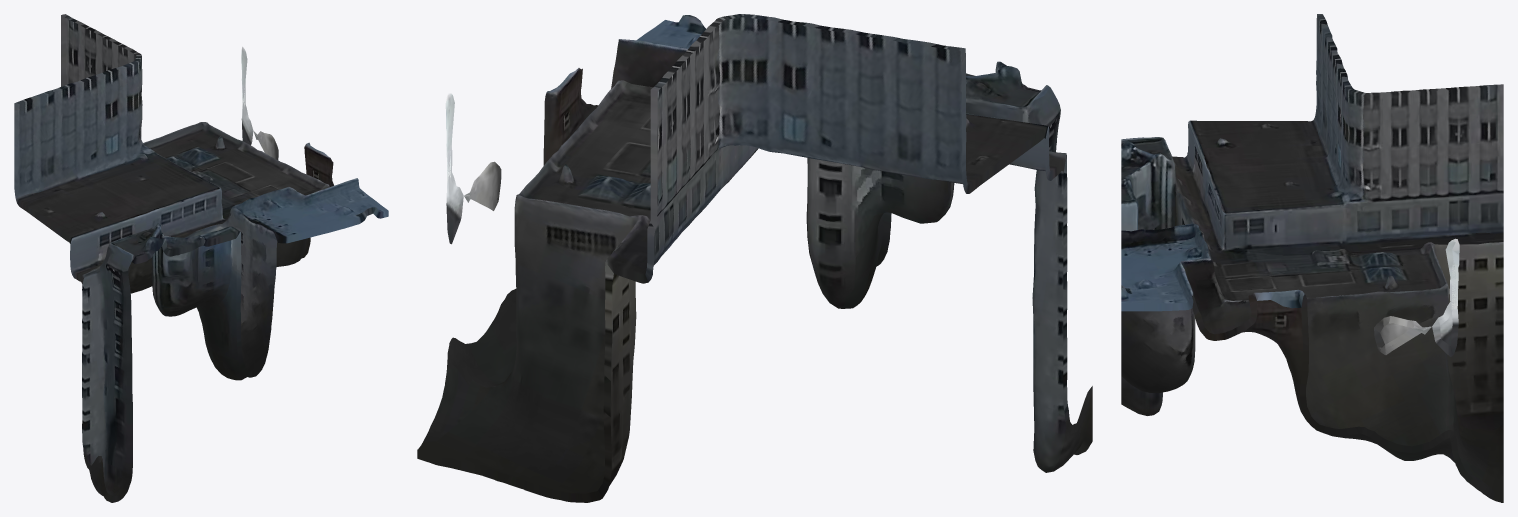
Rendered from z20-167749-405241-h0-yup-uvflip-v3-world.glb.
The picture shows the model from 3 angles, left to right: view 1: azimuth 30°, elevation 25°; view 2: azimuth 150°, elevation 25°; view 3: azimuth 270°, elevation 25°; orthographic projection. The views are drawn at different scales.
Size of the model in its own units: 30.16 by 34.28 by 30.32.
1 material, 1 textured.
